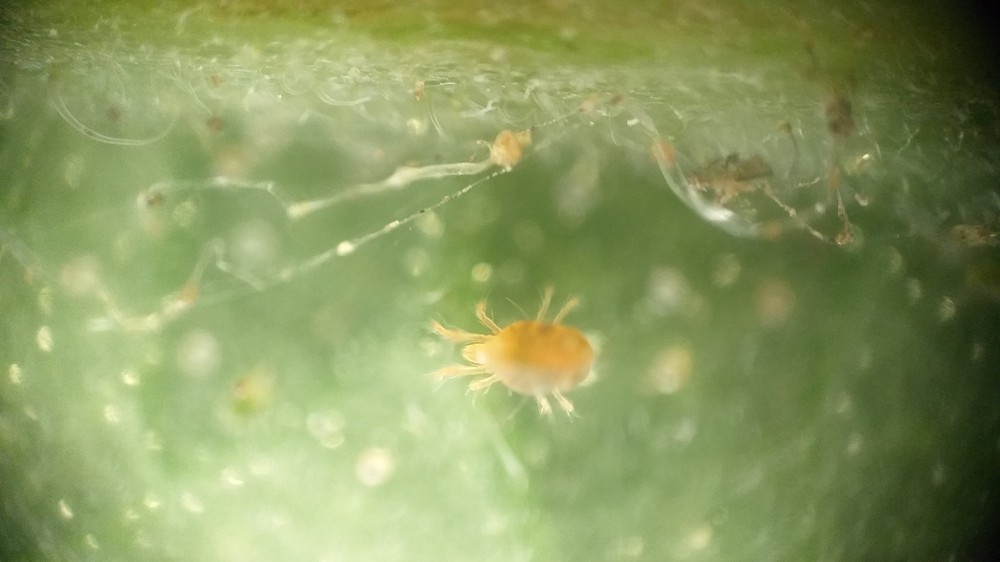Aracnido Rojo: (405, 290, 619, 431)
